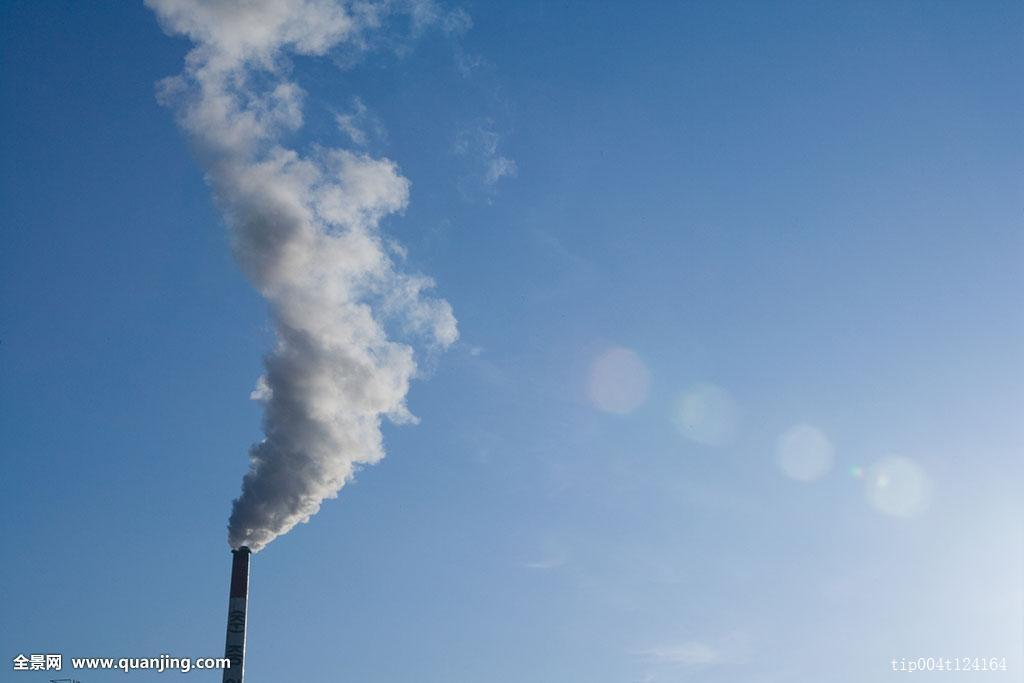dust: (214, 208, 472, 571)
